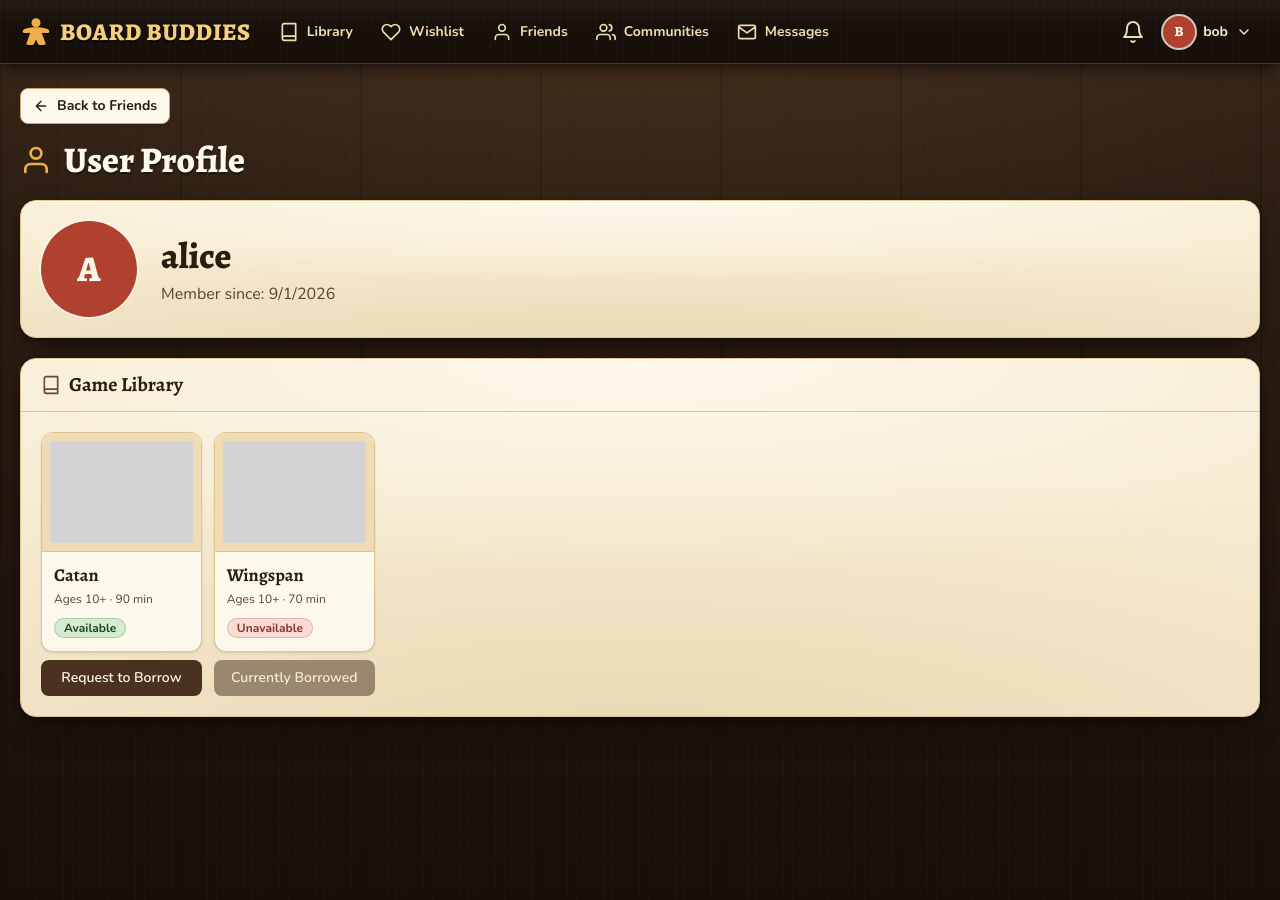
Viewing a friend's library › lets the user ask to borrow an available game and confirms the request
The width and height of the screenshot is (1280, 900).
Expected: the button "Currently Borrowed" is disabled, x1=214 y1=660 x2=375 y2=696
Click the button "Request to Borrow".
click(121, 678)  # box x1=41 y1=660 x2=202 y2=696
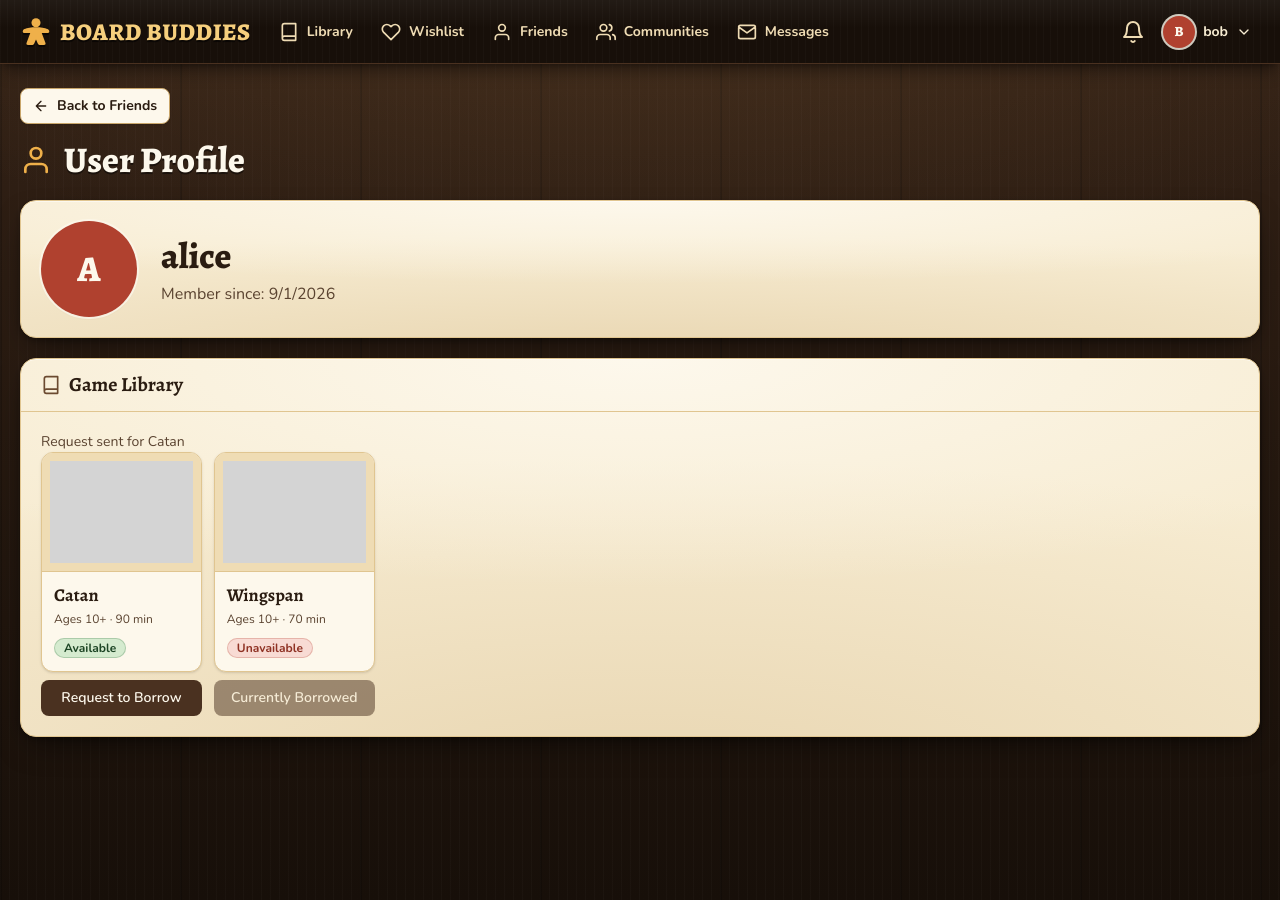
Now the text "Request sent for Catan" is shown, box x1=41 y1=432 x2=185 y2=451
